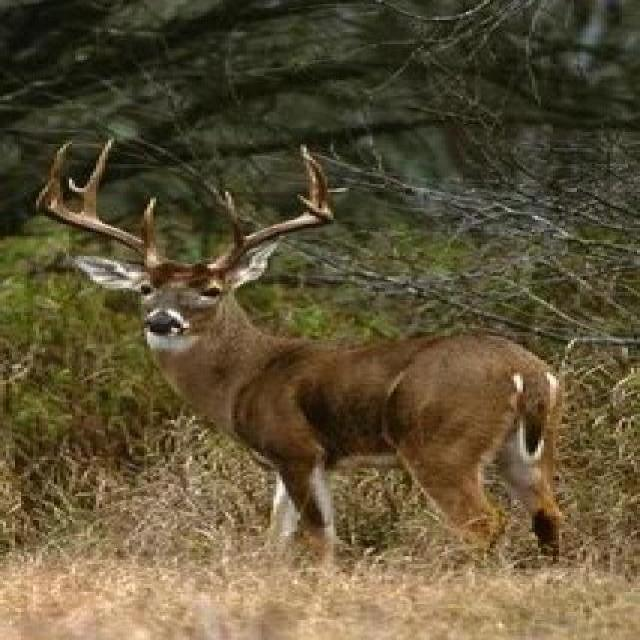deer: (18, 165, 640, 584)
